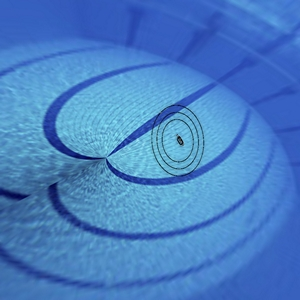circle: (146, 96, 208, 187)
submarine: (171, 133, 186, 149)
